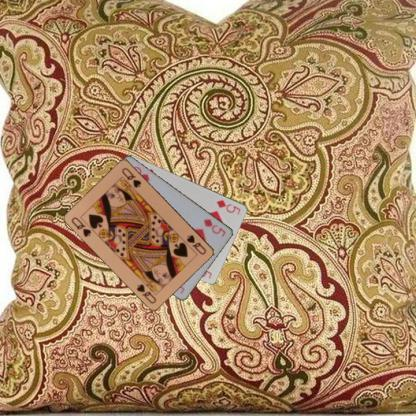5d: (202, 216, 227, 239), (214, 197, 242, 216)
Qs: (184, 232, 208, 256), (69, 214, 92, 238)
